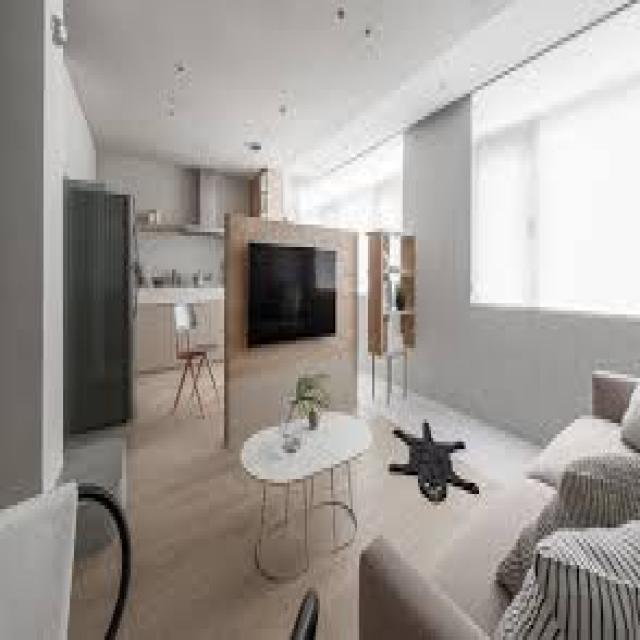Chair: (168, 300, 222, 424)
Sofa: (370, 370, 640, 640)
Table: (241, 392, 361, 572)
tv: (248, 235, 340, 346)
window: (479, 8, 640, 302)
